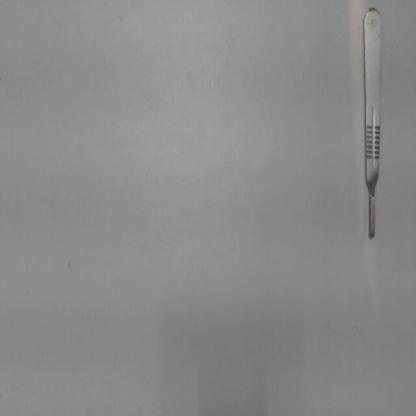No.4 BP Handle: (357, 4, 385, 242)
